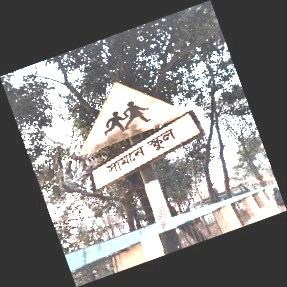School-in-front: (79, 82, 202, 191)
